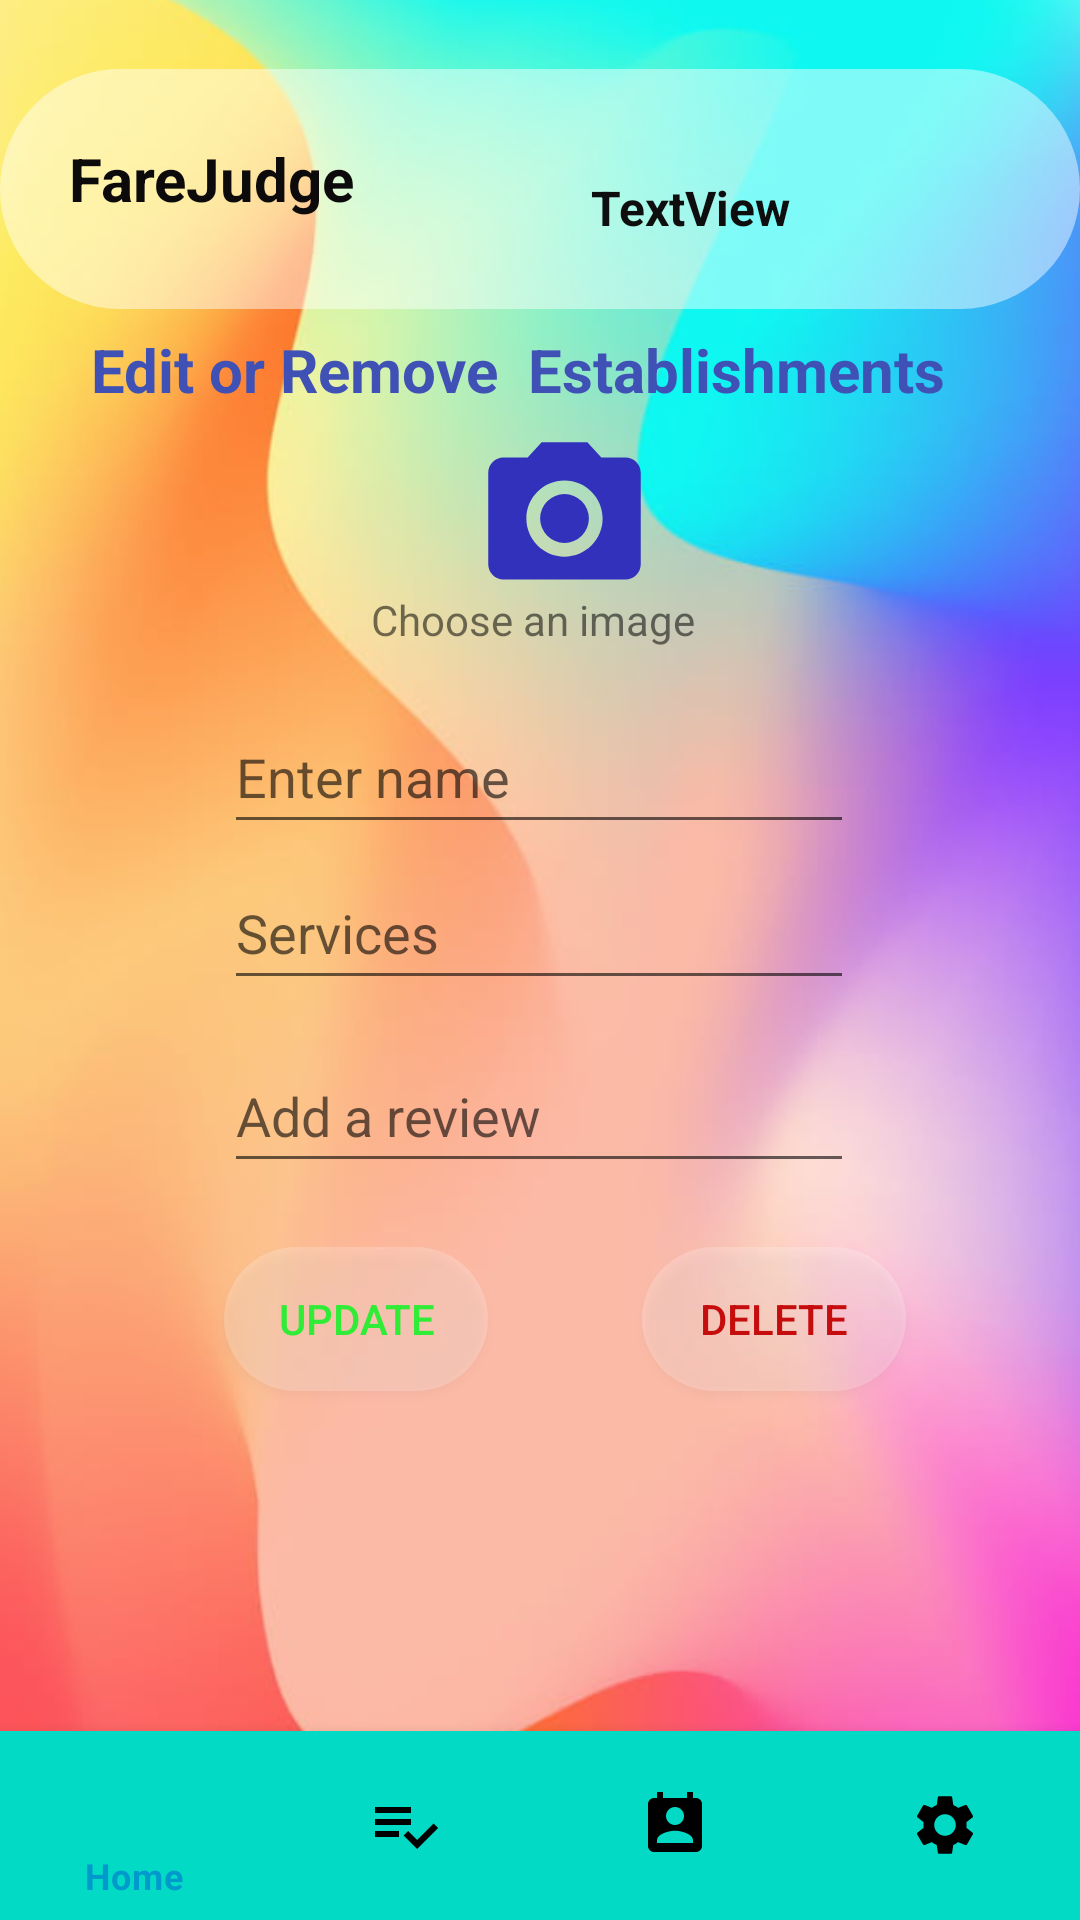

Icons on this 1080 × 1920 Android screen, each with the point to tap as [x,y]:
photo camera: [564,518]
